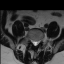CCS_normal: (34, 38, 36, 47)
LFS_normal: (38, 37, 40, 45)
LLS_normal: (36, 38, 38, 47)
RFS_normal: (30, 37, 32, 44)
RLS_normal: (32, 38, 34, 46)
